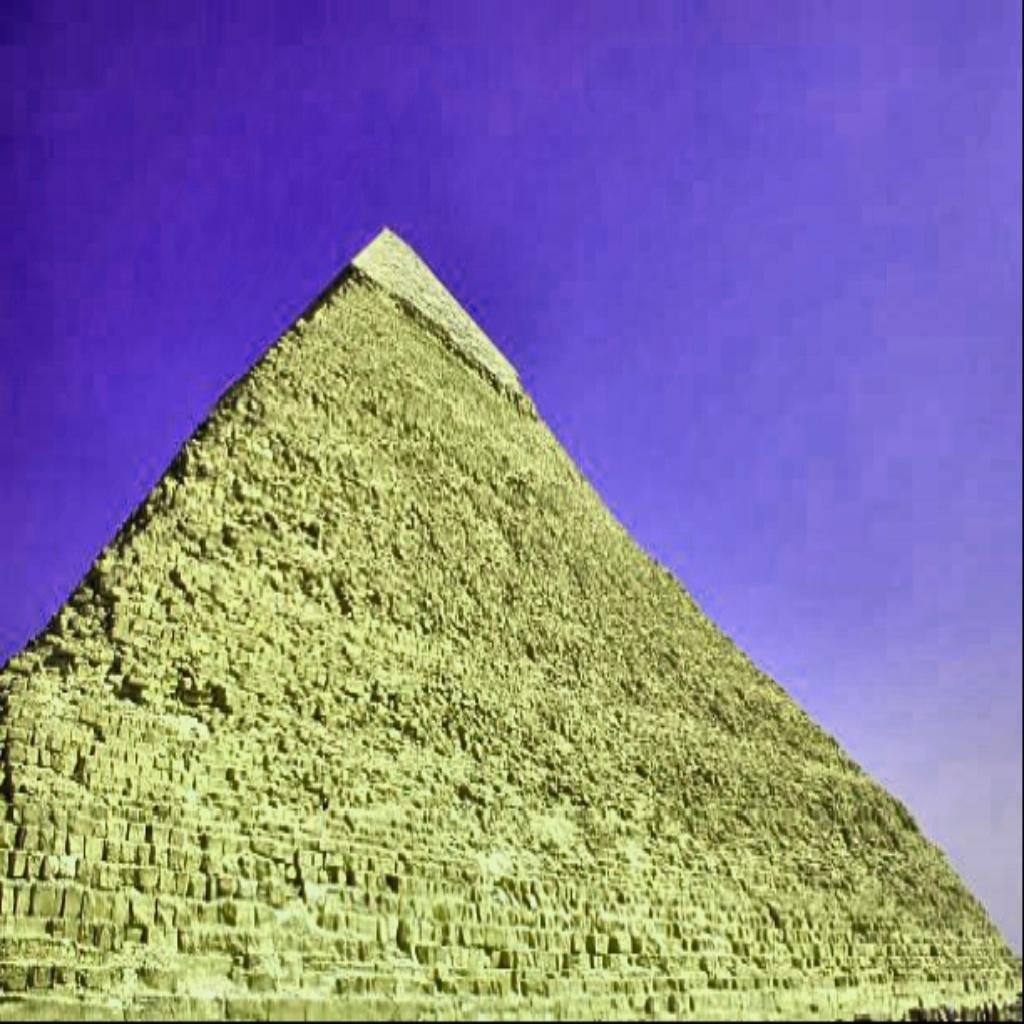Great Pyramids of Giza: (2, 220, 1016, 1016)
